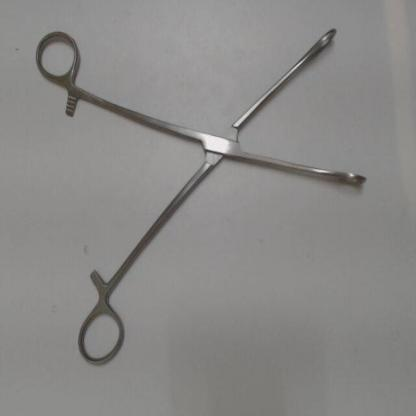Sponge Forceps: (32, 14, 372, 369)
